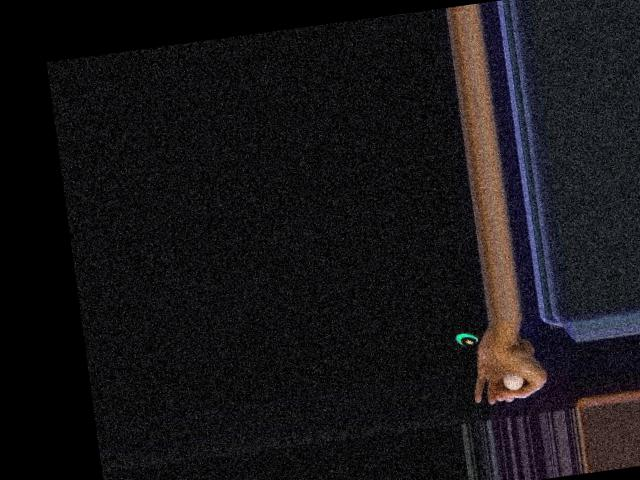egg: (502, 373, 525, 391)
